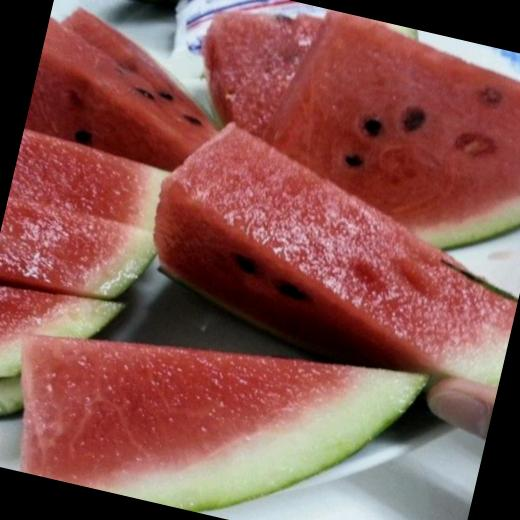Cherry: (0, 0, 520, 520), (0, 275, 435, 520)
